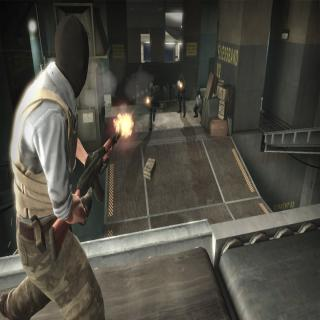CT-Body: (146, 80, 158, 132), (193, 85, 204, 123), (177, 73, 185, 117)
CT-Head: (148, 80, 154, 94), (196, 85, 202, 96), (179, 73, 183, 83)
T-Body: (0, 14, 104, 318)
T-Head: (50, 12, 89, 101)
